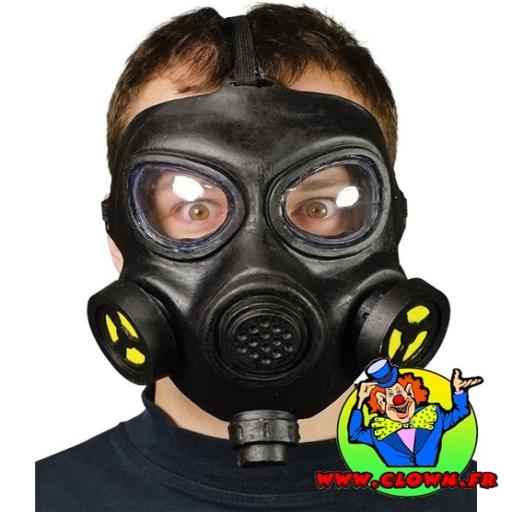mask: (89, 92, 466, 456)
